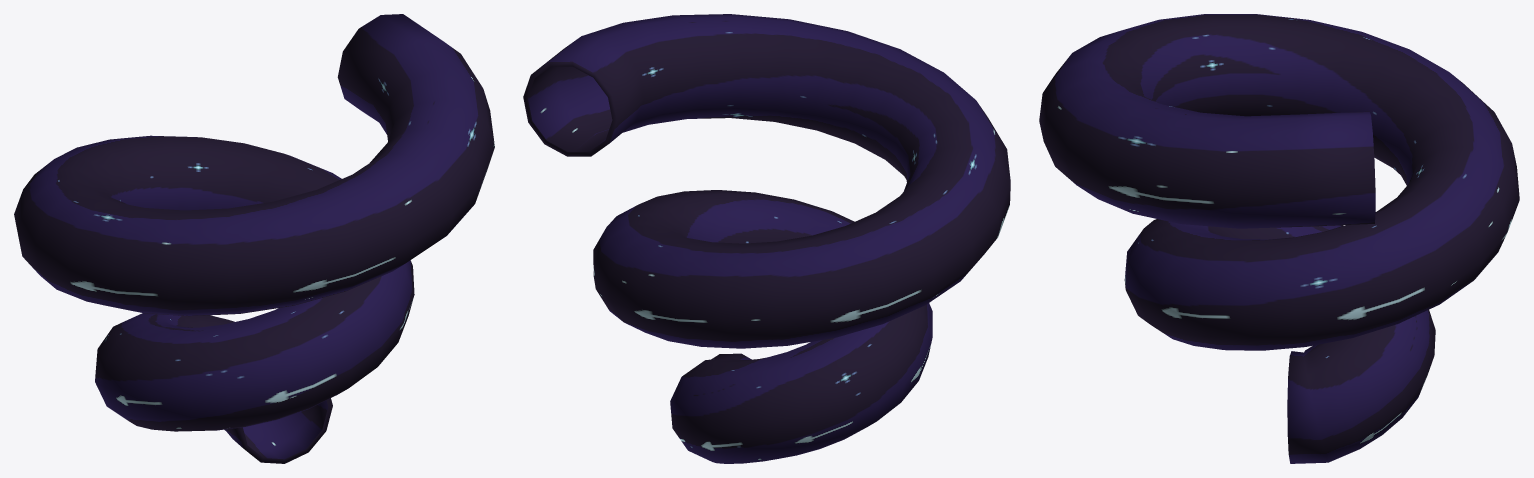
File: uzumaki-color-2.fbx
3 renders of one model, left to right at view 1: azimuth 30°, elevation 25°; view 2: azimuth 150°, elevation 25°; view 3: azimuth 270°, elevation 25°, orthographic. The views are drawn at different scales.
Visible parts, largest first — view 1: Spiral.001; view 2: Spiral.001; view 3: Spiral.001.
Boxes of the visible parts, x1,y1,x2,y2 form: Spiral.001: (14,14,494,463); Spiral.001: (523,14,1010,463); Spiral.001: (1039,14,1519,463).
Size of the model in its own units: 923 by 803 by 848.
Materials: 1 (1 with a texture image).
